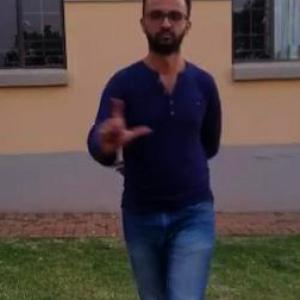land_hand: (89, 88, 154, 154)
